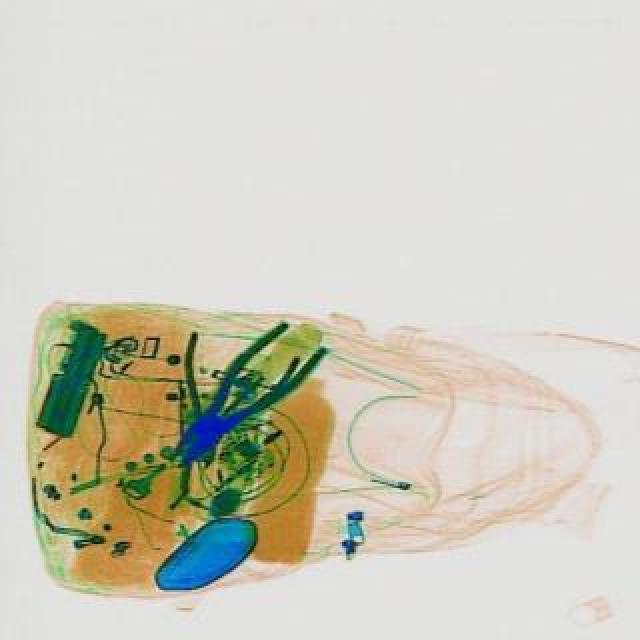wrench: (150, 310, 328, 486), (138, 316, 298, 480)
